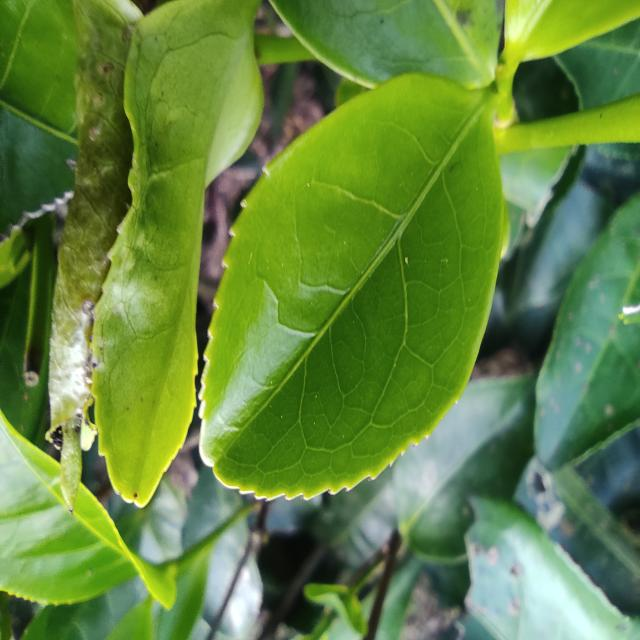Category B(2-4 days): (188, 55, 513, 516)
